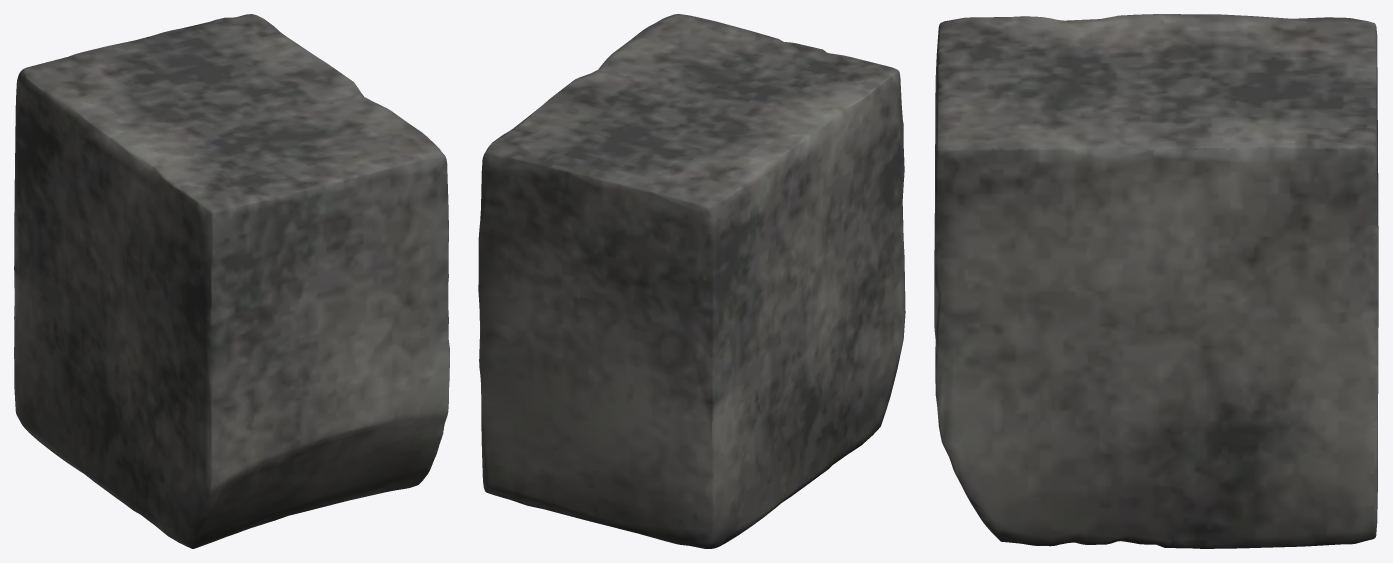
File: chipped-granite-anvil-v001.glb
The picture shows the model from 3 angles, left to right: view 1: azimuth 30°, elevation 25°; view 2: azimuth 150°, elevation 25°; view 3: azimuth 270°, elevation 25°; orthographic projection. The views are drawn at different scales.
Parts seen in each view (by area): view 1: chipped-granite-anvil; view 2: chipped-granite-anvil; view 3: chipped-granite-anvil.
Boxes of the visible parts, left/top/right/bottom form: chipped-granite-anvil: left=14, top=14, right=449, bottom=548; chipped-granite-anvil: left=478, top=14, right=905, bottom=548; chipped-granite-anvil: left=934, top=14, right=1378, bottom=548.
Size of the model in its own units: 0.4318 by 0.61 by 0.6082.
Materials: 1 (1 with a texture image).
